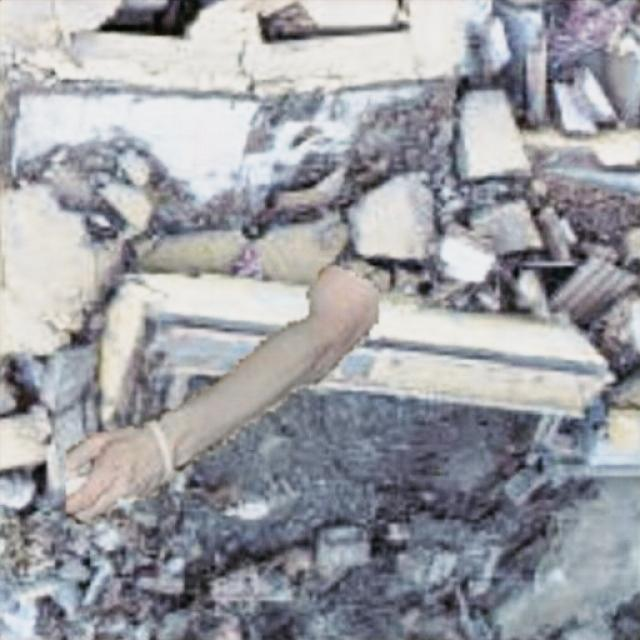Person in Rubble: (66, 264, 378, 522)
